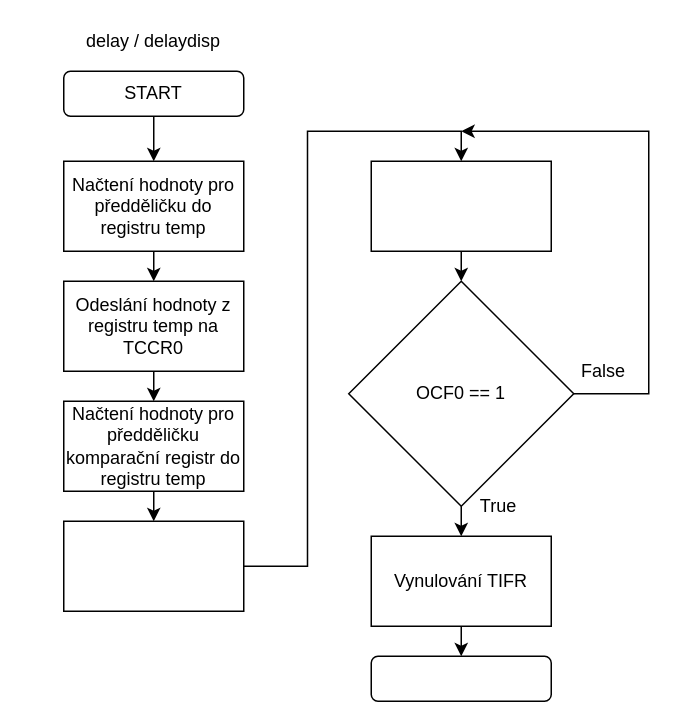
Some shapes in this 687 by 728 pixel diagram are drawn without their labels. Each missing label, with the centre of its shape:
"KONEC" belongs at (x=460, y=678).
"Odeslání hodnoty z registru temp na OCR0" belongs at (x=153, y=565).
"Přečtení TIFR do registru temp" belongs at (x=460, y=205).
